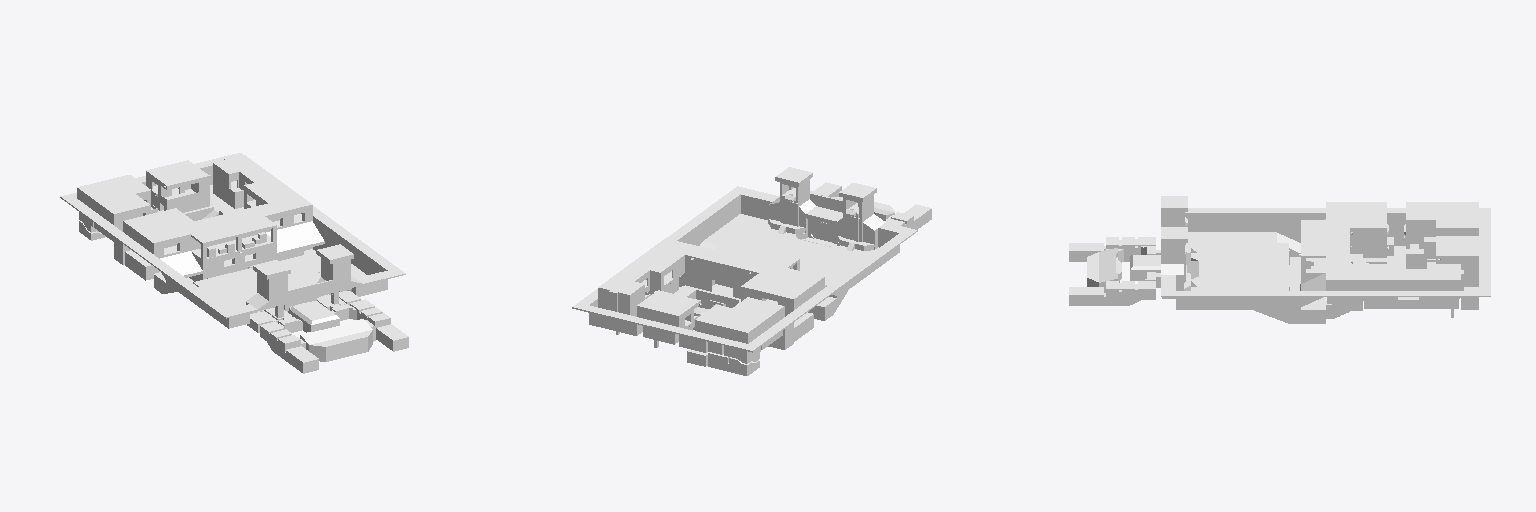
File: crossfire.obj
The picture shows the model from 3 angles: view 1: azimuth 30°, elevation 25°; view 2: azimuth 150°, elevation 25°; view 3: azimuth 270°, elevation 25°; orthographic projection.
Visible parts, largest first — view 1: crossfire_3D; view 2: crossfire_3D; view 3: crossfire_3D.
Boxes of the visible parts, <box> form: crossfire_3D: <box>60,153,408,373</box>; crossfire_3D: <box>572,167,931,375</box>; crossfire_3D: <box>1069,196,1490,323</box>.
Size of the model in its own units: 299 by 114 by 608.